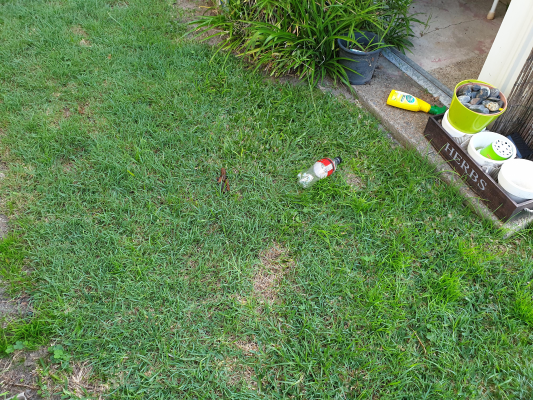Plastic Bottle: (297, 157, 342, 188)
